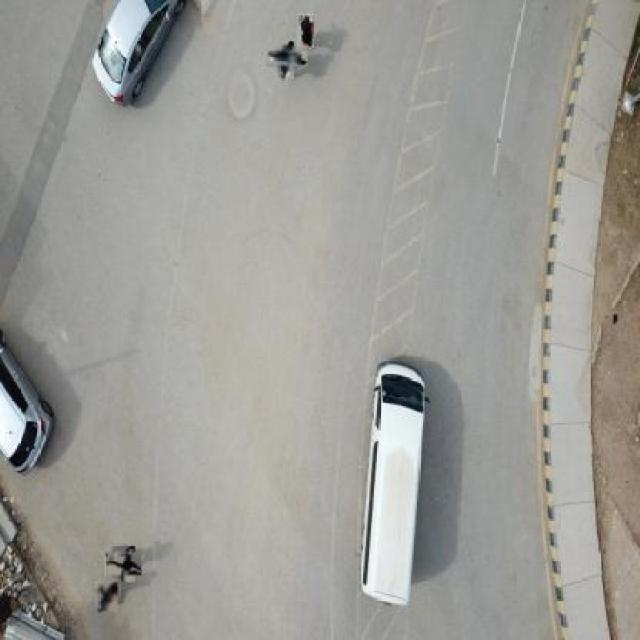Person: (108, 549, 140, 580), (273, 45, 302, 73), (96, 580, 119, 612), (298, 14, 314, 49)
